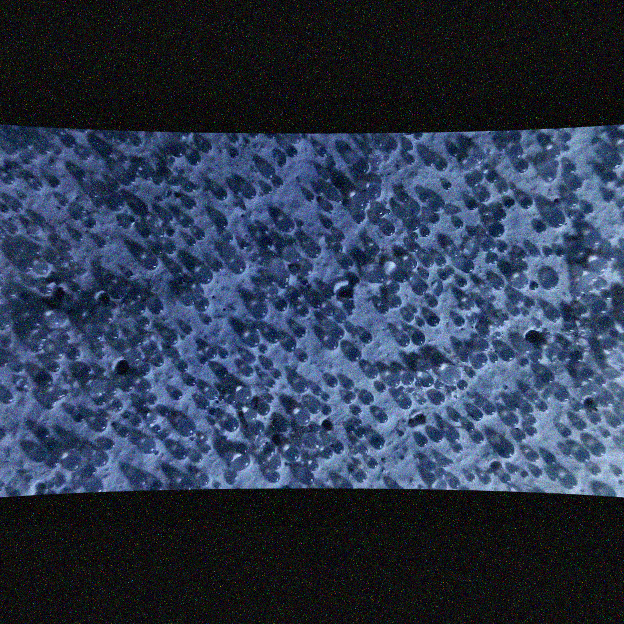GrassBeadSeg: (9, 132, 572, 460), (17, 144, 561, 465), (147, 143, 555, 480), (28, 224, 548, 478), (0, 143, 543, 367), (187, 158, 594, 444), (7, 131, 498, 362), (0, 130, 423, 395), (168, 176, 530, 475), (149, 197, 516, 490), (105, 158, 449, 463), (7, 146, 588, 317), (151, 244, 587, 462), (0, 200, 323, 481), (196, 173, 485, 485), (57, 254, 426, 492), (110, 174, 478, 410), (207, 162, 577, 389), (12, 202, 303, 485), (0, 131, 266, 440), (0, 185, 257, 491), (34, 318, 558, 465), (193, 196, 535, 421), (48, 209, 497, 371), (321, 211, 598, 460), (29, 140, 411, 320), (257, 152, 515, 416), (99, 222, 397, 450), (49, 177, 332, 415), (109, 154, 465, 340), (0, 134, 241, 406), (26, 131, 347, 328), (188, 196, 446, 436), (184, 188, 491, 386), (0, 156, 236, 403), (223, 221, 497, 431), (80, 192, 410, 365), (45, 140, 217, 467), (180, 258, 428, 483), (38, 273, 330, 462), (1, 276, 289, 465), (56, 260, 428, 405), (311, 182, 564, 393), (95, 164, 319, 396), (95, 300, 426, 454), (60, 197, 608, 289), (0, 259, 609, 341), (0, 187, 228, 403), (62, 138, 583, 232), (59, 148, 504, 252), (0, 238, 498, 330), (118, 296, 432, 437), (84, 153, 413, 283), (0, 246, 486, 332), (123, 346, 526, 441), (111, 229, 586, 306), (109, 190, 434, 296), (2, 217, 422, 298), (131, 235, 274, 472), (62, 135, 440, 224), (17, 359, 273, 488), (97, 217, 408, 323), (103, 208, 507, 284), (96, 147, 240, 357), (171, 388, 607, 456), (284, 338, 516, 457), (173, 329, 385, 458), (326, 144, 459, 348), (118, 152, 409, 243), (139, 217, 295, 384), (4, 227, 153, 400), (93, 394, 443, 467), (39, 215, 257, 331), (224, 146, 299, 483), (151, 259, 269, 472), (317, 185, 495, 323), (2, 144, 570, 185), (79, 242, 176, 482), (346, 222, 507, 362), (130, 211, 358, 299), (1, 178, 68, 468), (179, 216, 385, 310), (328, 154, 614, 219), (461, 253, 546, 460), (91, 332, 261, 430), (46, 272, 369, 323), (136, 151, 204, 393), (86, 215, 230, 327), (11, 194, 567, 223), (339, 256, 446, 402), (360, 388, 569, 460), (324, 244, 586, 298), (152, 299, 244, 451), (76, 415, 463, 451), (257, 372, 401, 468), (269, 370, 419, 460), (0, 280, 80, 448), (442, 329, 621, 400), (95, 416, 280, 482), (512, 144, 618, 259), (443, 183, 557, 288), (99, 292, 196, 393), (268, 279, 420, 343), (499, 142, 623, 219), (261, 146, 391, 216), (124, 132, 264, 197), (325, 156, 451, 224), (29, 329, 88, 468), (128, 268, 171, 453), (96, 177, 131, 396), (539, 383, 620, 475), (420, 393, 560, 446), (419, 384, 509, 465), (159, 419, 266, 487), (430, 278, 504, 376), (298, 350, 369, 449), (333, 417, 450, 477), (459, 338, 554, 410), (145, 222, 190, 372), (108, 132, 175, 232), (417, 279, 455, 447), (232, 405, 330, 470), (451, 411, 539, 482), (454, 293, 521, 382), (339, 209, 445, 265), (58, 175, 134, 253), (239, 242, 267, 453), (355, 372, 435, 444), (240, 327, 335, 387), (15, 379, 210, 408), (68, 331, 174, 384), (69, 381, 131, 471), (292, 262, 363, 340), (323, 303, 379, 401), (196, 396, 276, 456), (101, 266, 389, 282), (273, 157, 369, 201), (545, 247, 623, 298), (561, 426, 623, 487), (483, 319, 563, 365), (17, 361, 57, 453), (143, 256, 347, 273), (501, 425, 565, 479), (522, 307, 584, 362), (482, 446, 573, 483), (440, 408, 486, 480), (17, 194, 72, 253), (38, 350, 85, 419), (526, 237, 601, 279), (145, 406, 210, 452), (437, 411, 475, 487), (425, 154, 478, 208), (156, 176, 345, 191), (245, 344, 302, 393), (297, 273, 361, 316), (454, 185, 507, 235), (591, 300, 620, 384), (169, 352, 257, 379), (583, 368, 623, 427), (308, 440, 367, 480), (274, 146, 329, 188), (346, 136, 393, 184), (14, 364, 33, 482), (506, 417, 619, 436), (184, 152, 237, 192), (178, 274, 210, 340), (253, 400, 321, 431), (598, 289, 623, 372), (566, 193, 614, 236), (507, 397, 533, 474), (285, 407, 322, 460), (225, 222, 302, 247), (428, 277, 467, 326), (135, 331, 179, 374), (249, 305, 306, 338), (260, 205, 325, 233), (245, 328, 269, 401), (462, 144, 526, 171), (359, 139, 381, 215), (329, 394, 362, 444), (0, 229, 48, 263), (99, 349, 143, 385), (135, 393, 160, 454), (43, 143, 84, 180), (290, 261, 323, 306), (482, 172, 517, 214), (46, 347, 70, 408), (42, 146, 137, 161), (363, 299, 395, 343), (268, 236, 296, 286), (545, 298, 608, 320), (379, 372, 412, 414), (367, 244, 417, 271), (457, 382, 497, 415), (345, 391, 388, 421), (13, 144, 112, 157), (23, 155, 87, 175), (335, 229, 380, 254), (245, 381, 274, 419), (51, 465, 96, 488), (441, 265, 514, 279), (33, 260, 75, 282), (69, 330, 102, 358), (90, 327, 143, 344), (182, 295, 212, 325), (541, 167, 571, 196), (264, 444, 300, 468), (418, 356, 445, 387), (388, 270, 409, 307), (16, 218, 40, 250), (131, 302, 153, 336), (436, 253, 475, 272), (252, 288, 269, 328), (354, 153, 389, 172), (407, 241, 433, 266), (513, 281, 538, 307), (295, 350, 310, 393), (488, 159, 529, 172), (431, 349, 473, 361), (147, 219, 176, 236), (58, 148, 113, 156), (155, 176, 166, 214), (437, 269, 453, 295), (316, 188, 334, 211), (297, 217, 334, 228), (43, 278, 70, 293), (513, 250, 563, 258), (377, 135, 400, 152), (233, 184, 271, 193), (134, 410, 158, 424), (23, 141, 38, 163), (134, 137, 143, 169), (328, 329, 346, 345), (176, 418, 192, 435), (149, 214, 171, 226), (131, 470, 147, 485), (332, 229, 342, 252), (130, 301, 146, 315), (272, 225, 291, 236), (12, 138, 32, 148), (56, 445, 68, 457), (268, 283, 279, 296), (334, 230, 348, 240), (486, 172, 500, 182), (154, 299, 164, 313), (584, 231, 598, 240), (38, 265, 50, 275), (517, 261, 529, 271), (499, 240, 509, 251), (237, 387, 245, 399), (513, 273, 525, 280), (167, 212, 175, 222), (12, 143, 20, 153), (340, 192, 352, 198), (616, 154, 623, 164), (148, 220, 157, 227), (514, 282, 526, 287), (566, 168, 574, 175), (608, 164, 619, 169), (412, 280, 416, 292), (353, 185, 357, 196), (336, 326, 344, 329), (264, 334, 267, 341)
